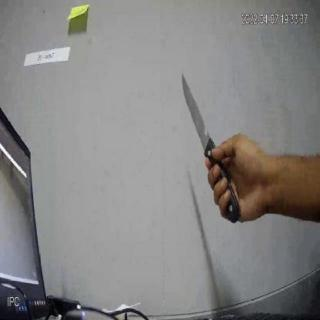knife: (178, 69, 242, 221)
